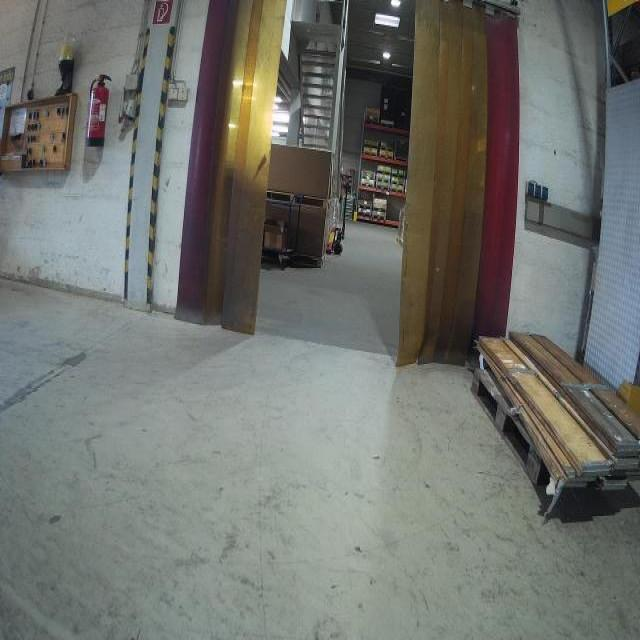pallet: (467, 360, 571, 487), (266, 185, 329, 211), (377, 166, 391, 178), (379, 144, 394, 154), (357, 209, 372, 219), (362, 149, 377, 158), (361, 173, 375, 182), (390, 185, 404, 194), (392, 170, 405, 179), (377, 183, 390, 192), (374, 205, 387, 214), (365, 118, 379, 126), (364, 141, 378, 149), (360, 181, 374, 189), (358, 202, 372, 210), (380, 152, 393, 160), (392, 179, 405, 187), (380, 121, 393, 128), (377, 178, 390, 184), (374, 214, 385, 221)
pallet_truck: (319, 174, 354, 261)
